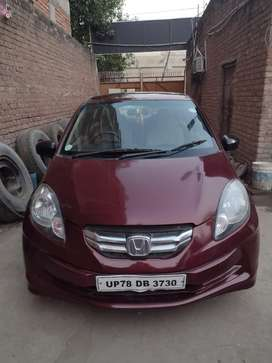UP78DB3730: (99, 277, 184, 289)
